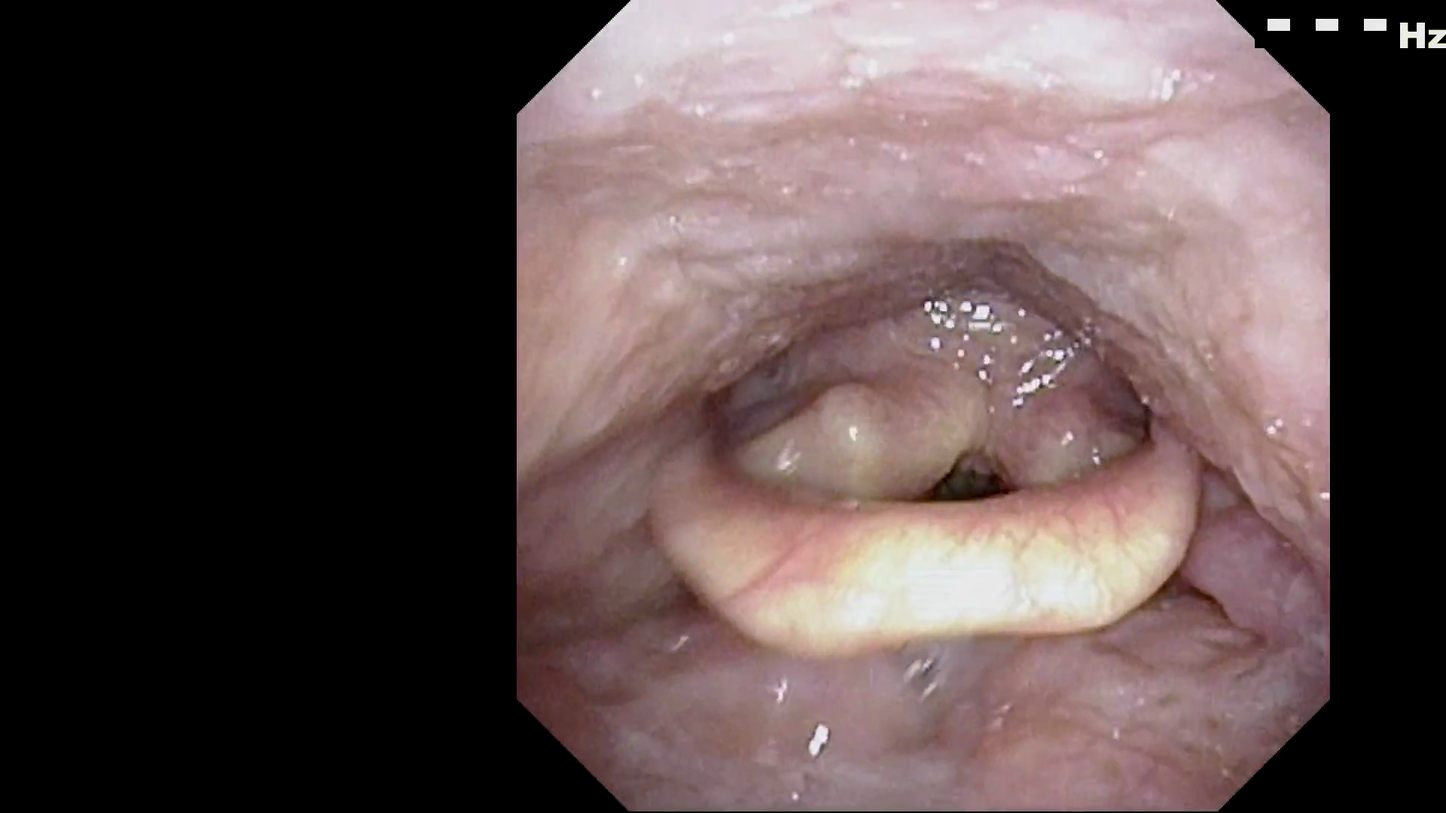epiglottis: (660, 415, 1218, 666)
trachea: (933, 442, 1013, 528)
